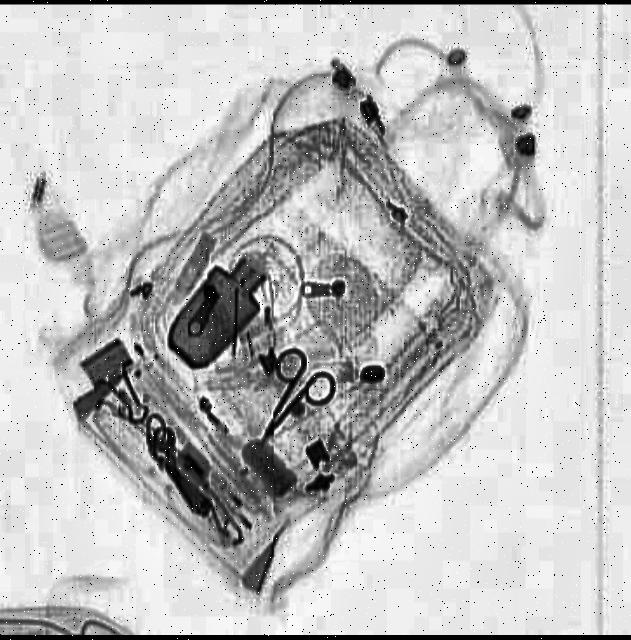Scissors: (235, 341, 344, 464)
